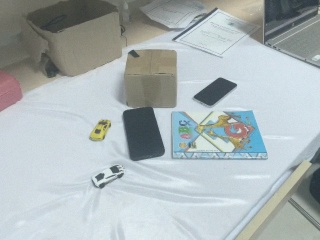book: (160, 107, 273, 161)
box: (24, 1, 123, 78), (124, 48, 178, 108)
phone: (122, 107, 165, 162), (192, 76, 238, 107)
toy_car: (91, 164, 125, 188), (89, 119, 112, 142)
